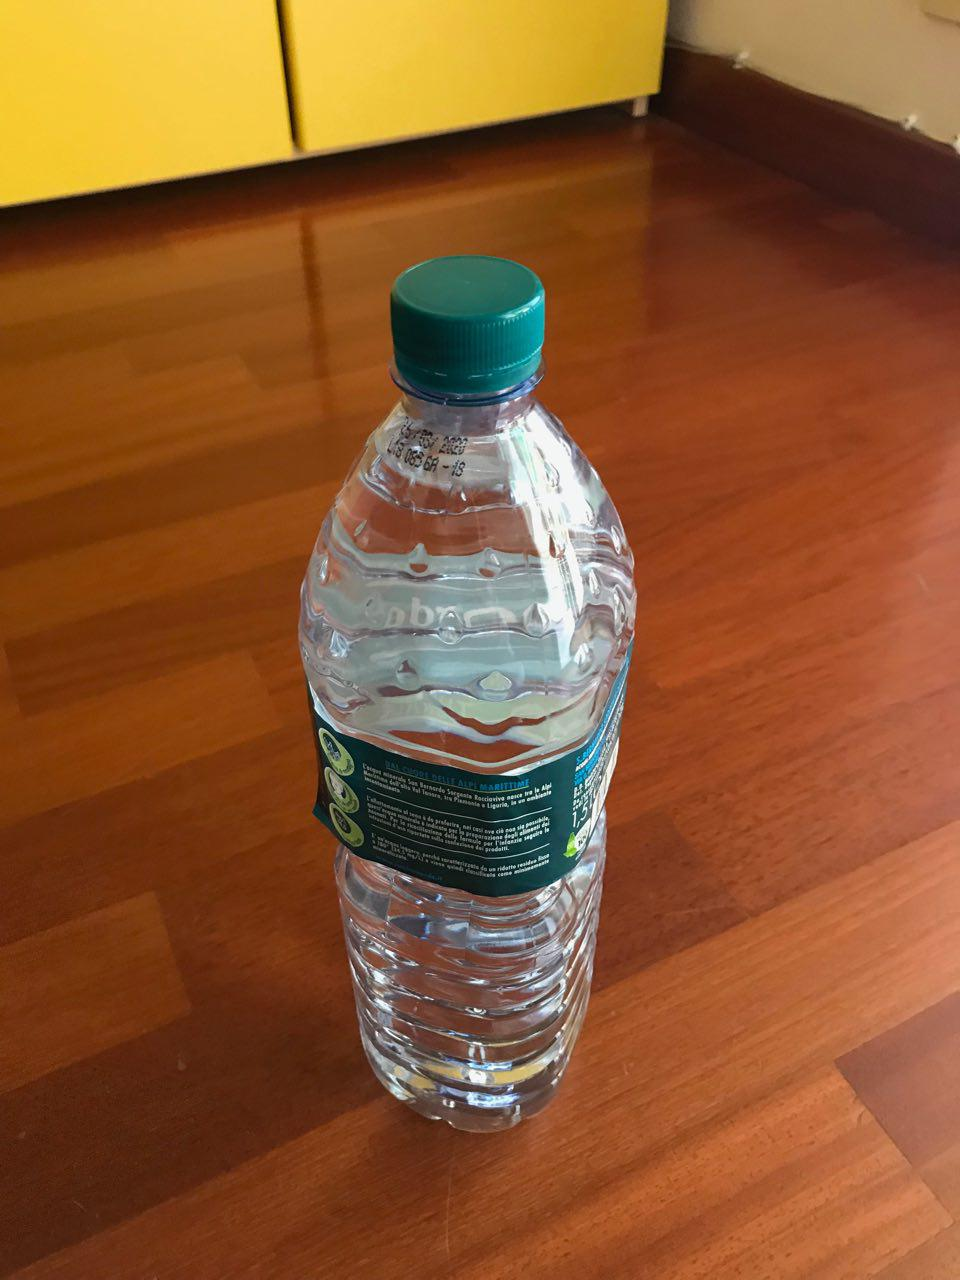san_bernardo: (295, 253, 640, 1138)
